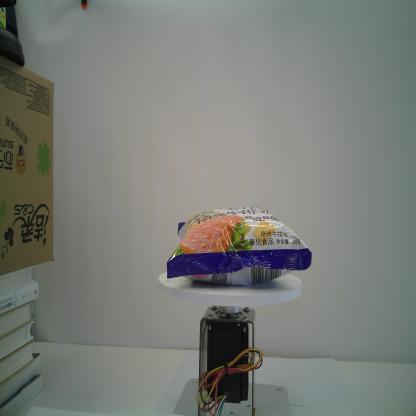Puffed Food: (164, 203, 313, 289)
